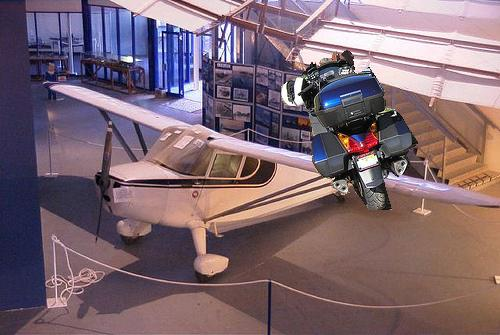tampered: (282, 51, 418, 210)
